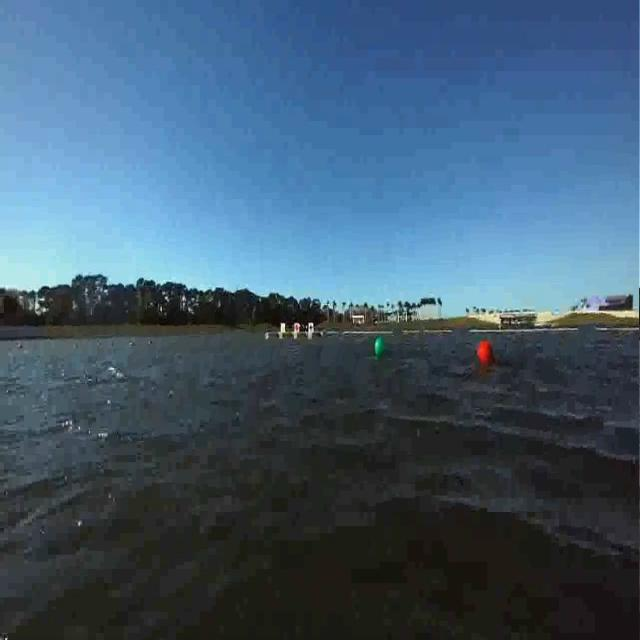green-buoy: (374, 338, 386, 358)
red-buoy: (478, 342, 496, 366)
